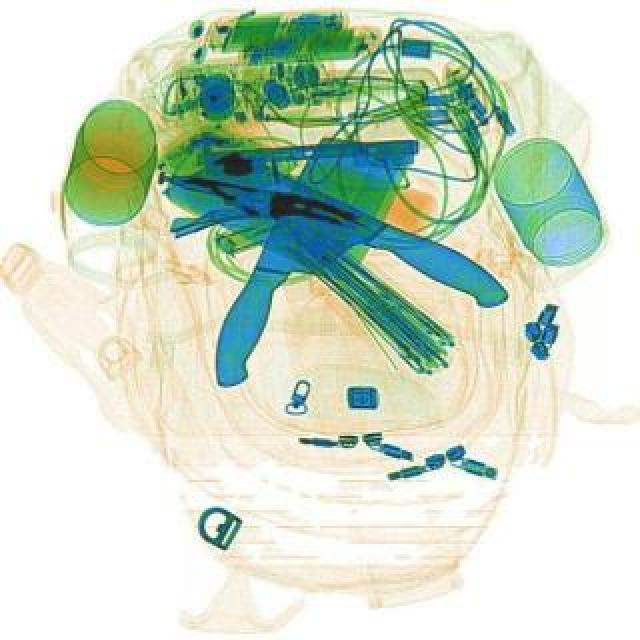knife: (160, 122, 514, 354), (194, 118, 414, 410)
